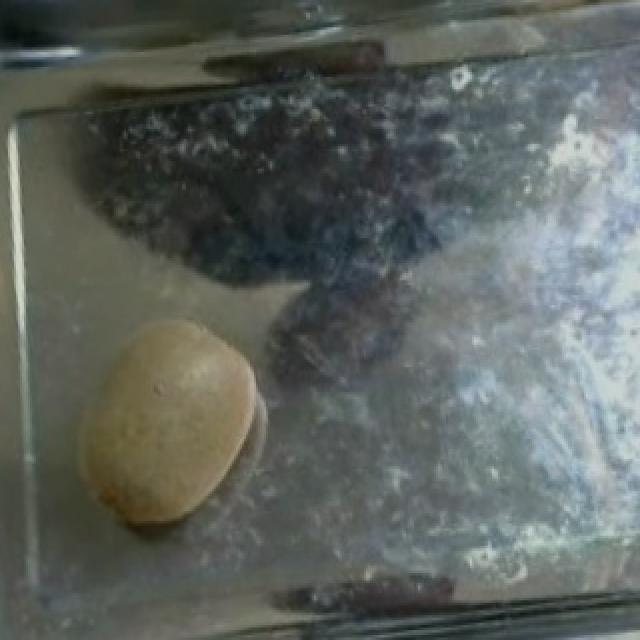Fruit: (14, 300, 270, 543)
